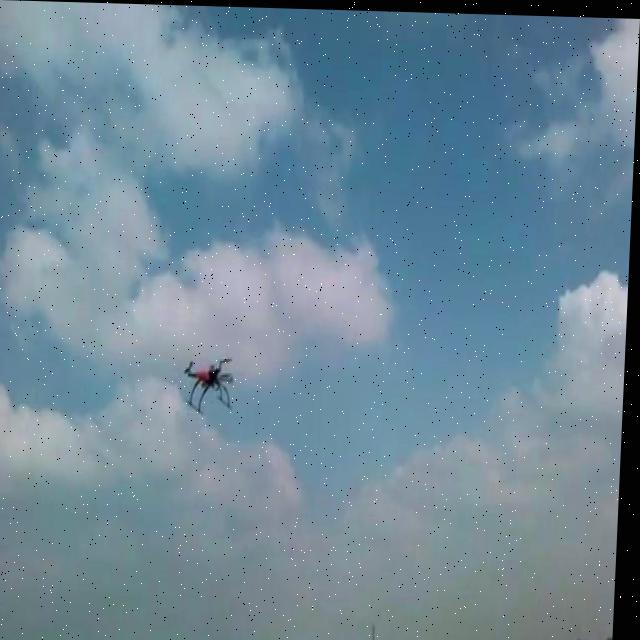drone: (184, 348, 238, 413)
